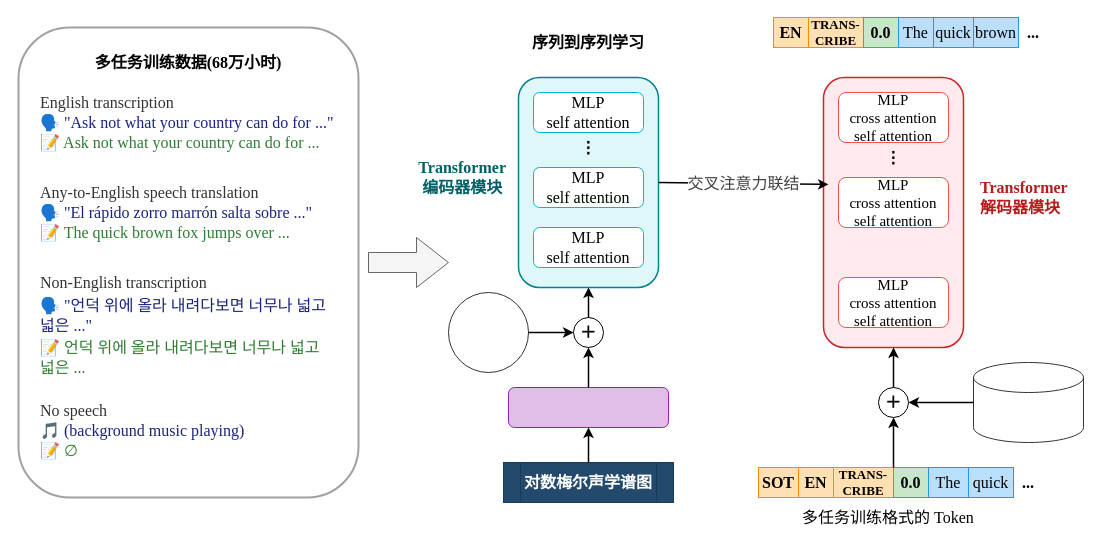
Some shapes in this 1105 by 545 pixel diagram are drawn without their labels. The box of each missing label's shape, as (x1, y1, x2, y2) in pixels:
2 × Conv1D + GELU: (508, 386, 668, 428)
可学习的位置编码: (972, 362, 1084, 442)
正弦位置编码: (448, 292, 528, 372)
